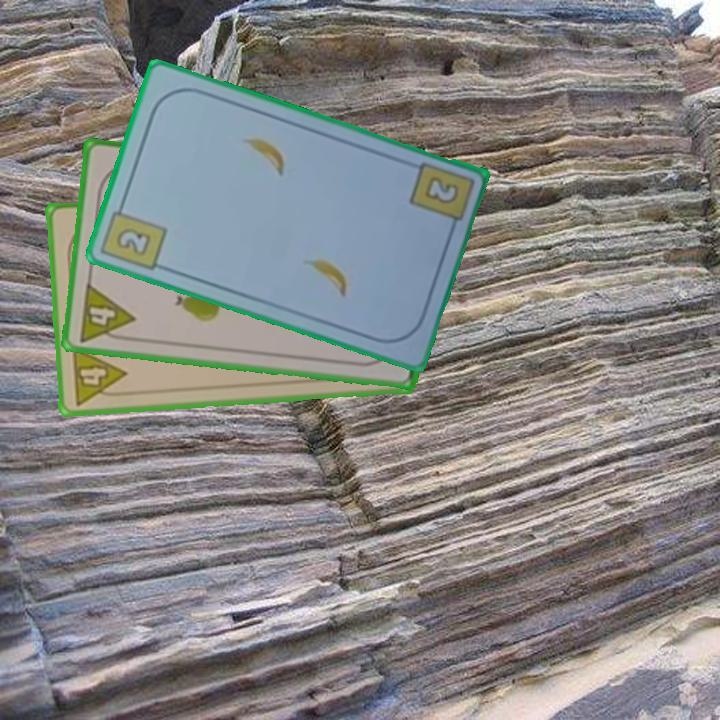2b: (98, 196, 170, 274), (420, 172, 462, 208)
4p: (75, 279, 138, 345), (68, 343, 130, 408)
